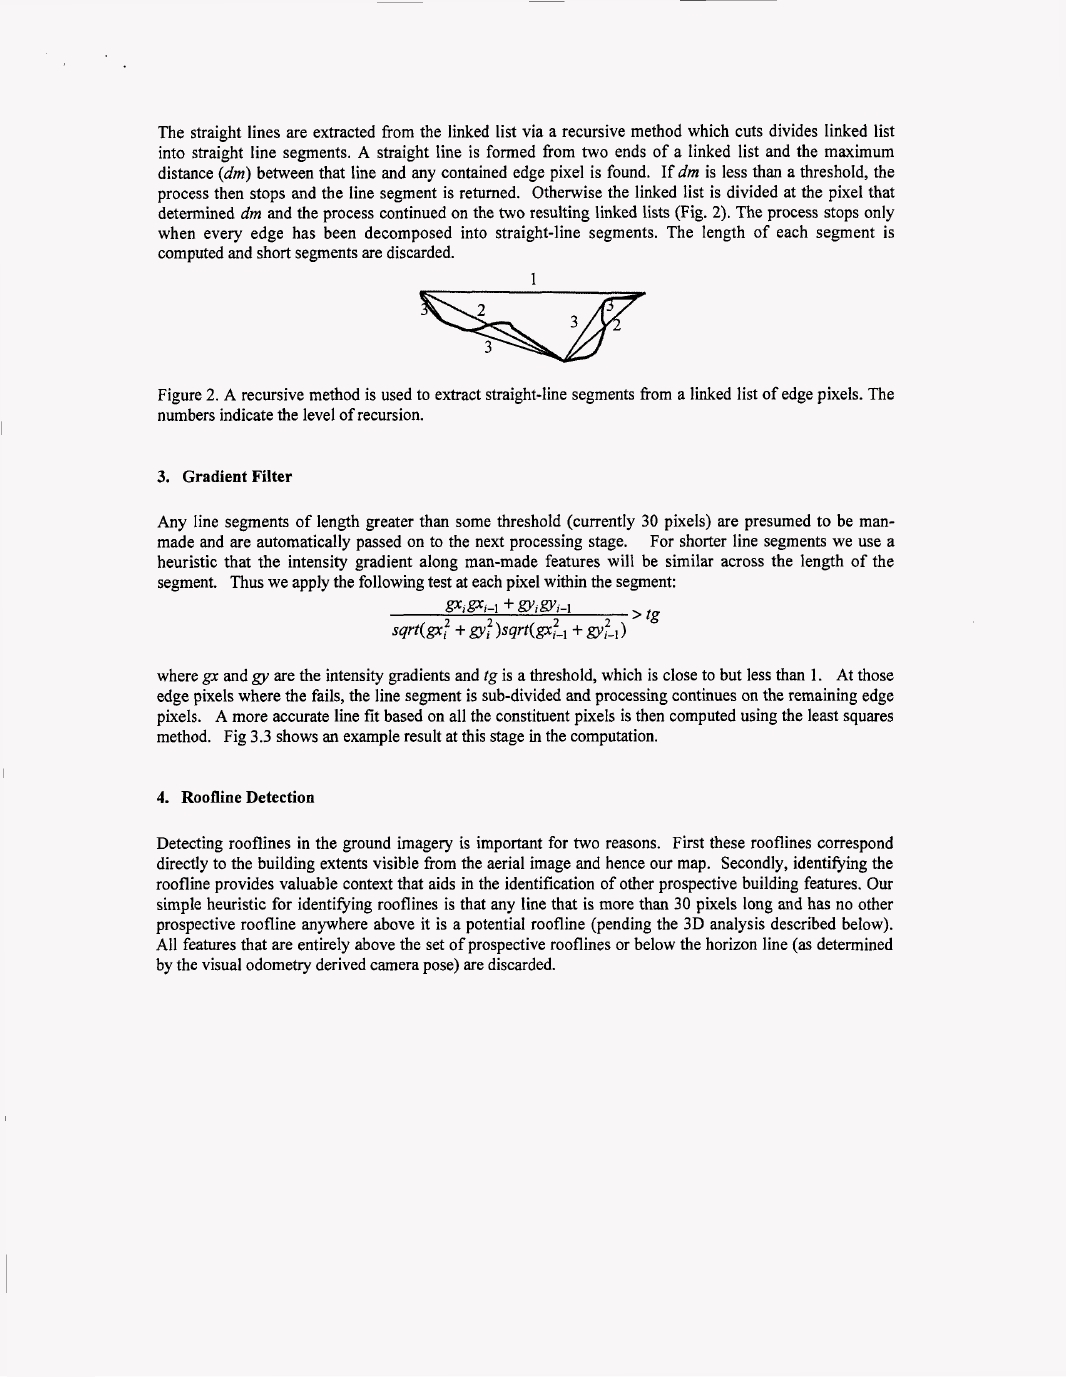figure: (419, 272, 645, 362)
formula: (390, 597, 659, 640)
